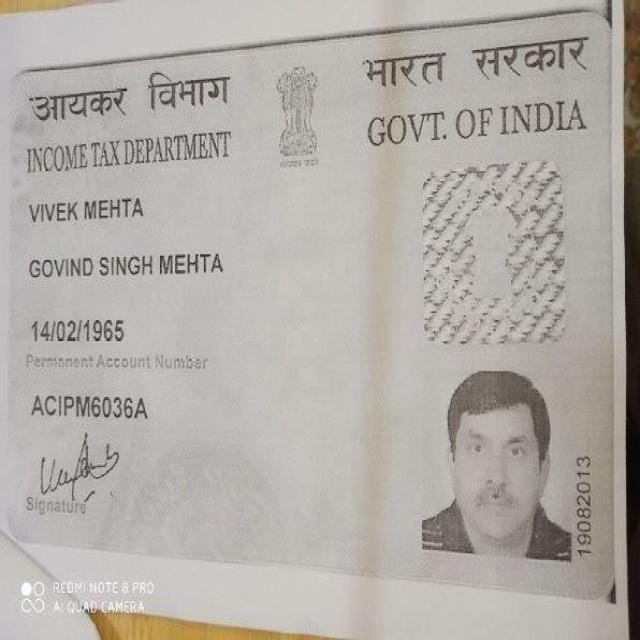pan_card: (10, 7, 609, 593)
